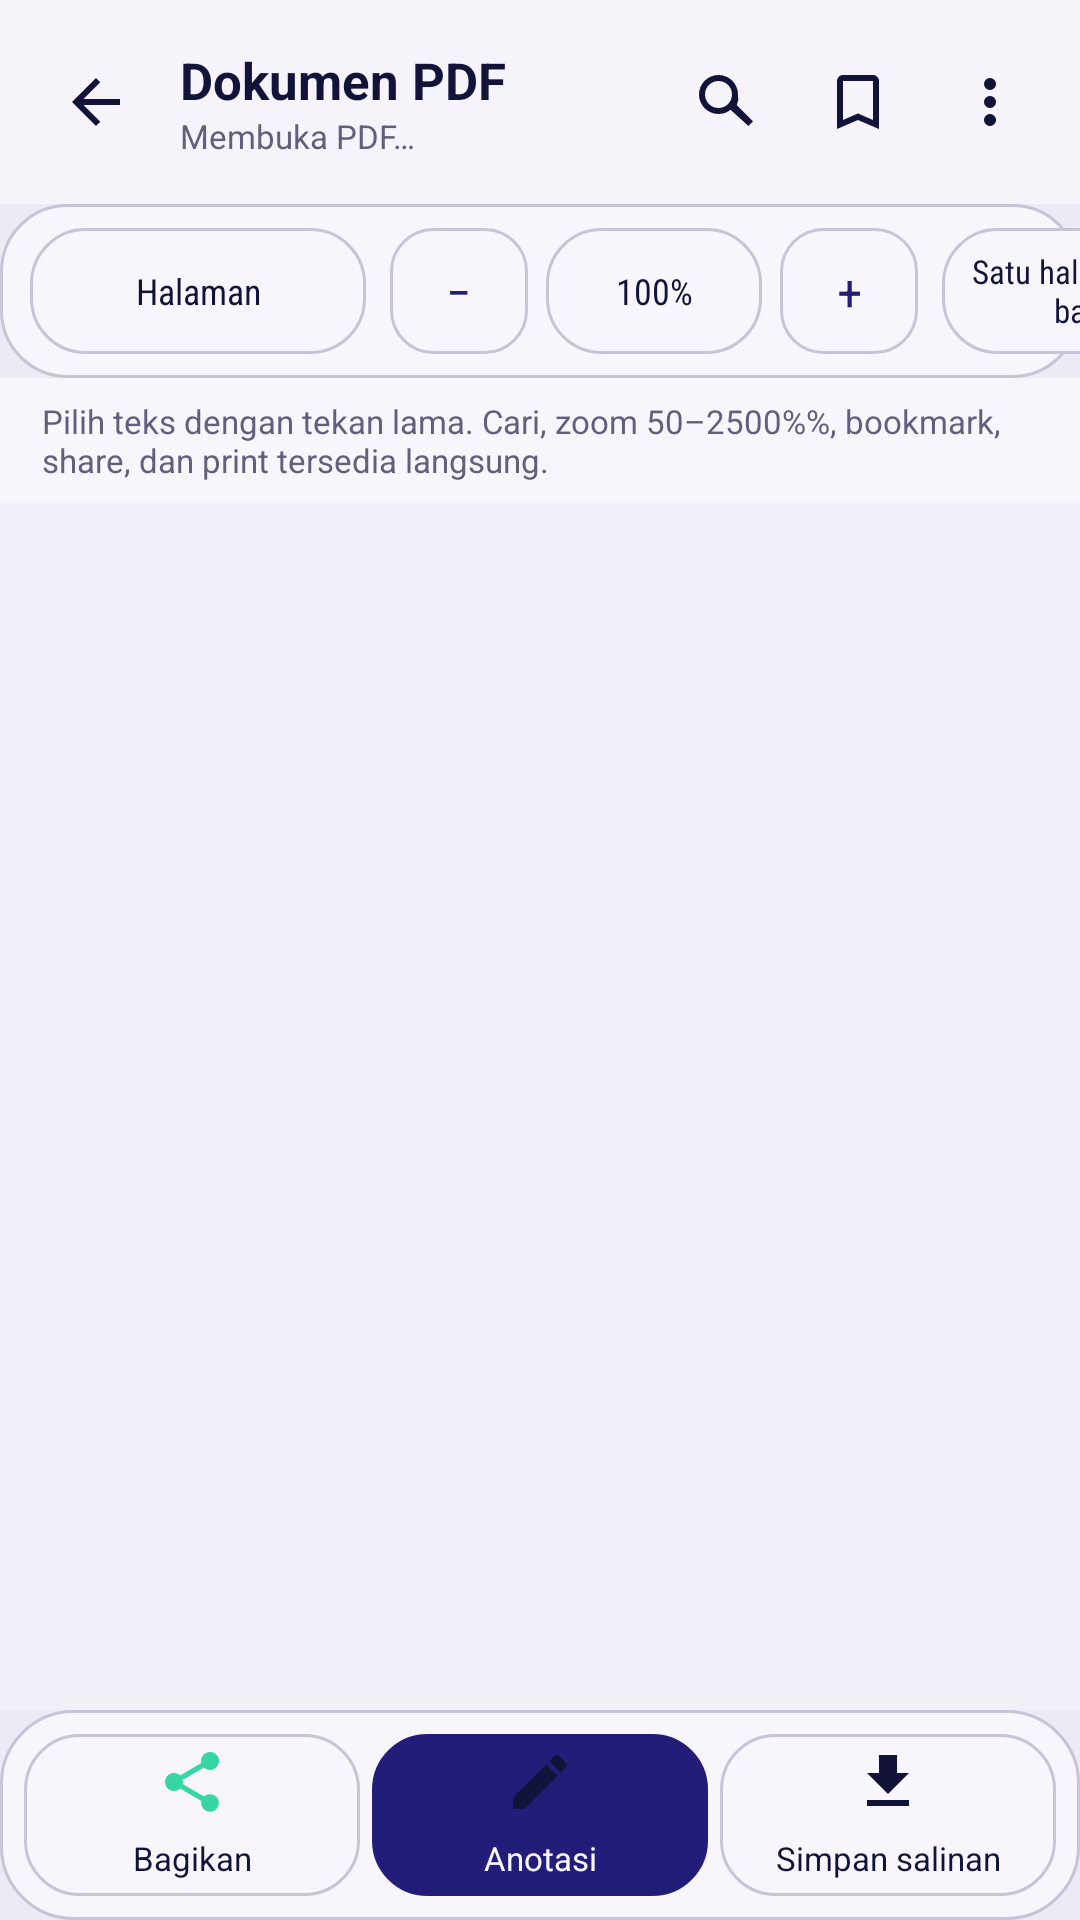

Named icons in this screenshot (1080px x 1920px) and their centers, point (x, y):
Cari teks: point (726, 100)
Kembali: point (96, 102)
Opsi PDF lainnya: point (990, 102)
Tandai halaman: point (858, 102)
